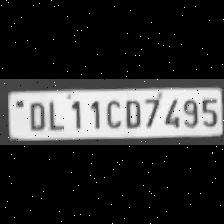1: (65, 96, 85, 130), (84, 96, 104, 130)
4: (160, 95, 180, 129)
5: (198, 94, 218, 128)
7: (140, 94, 160, 128)
9: (179, 94, 199, 128)
C: (102, 96, 122, 128)
D: (24, 99, 46, 131), (122, 96, 142, 128)
L: (46, 97, 66, 131)
